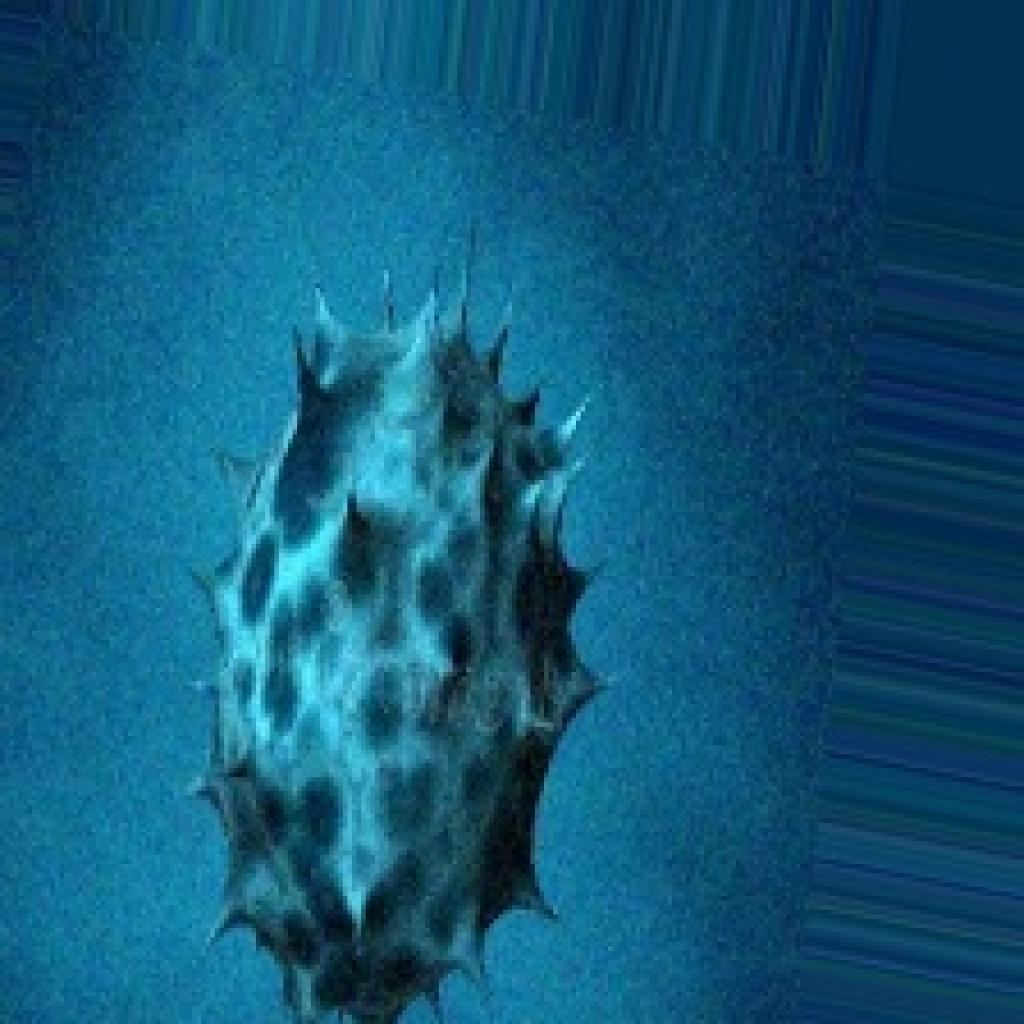Sphericalbacteria: (183, 256, 612, 1019)
